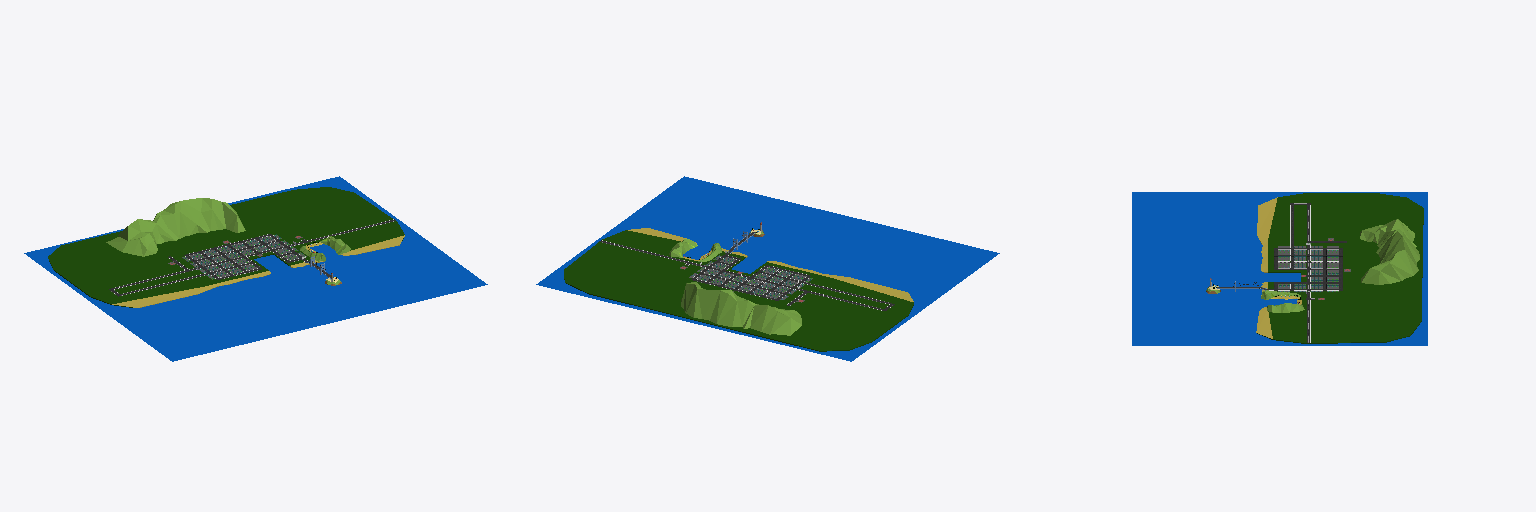
The picture shows the model from 3 angles: view 1: azimuth 30°, elevation 25°; view 2: azimuth 150°, elevation 25°; view 3: azimuth 270°, elevation 25°; orthographic projection.
Visible parts, largest first — view 1: ground_SPW_Natures_Mount_Green_02_Mesh.001, roads_Mesh.029; view 2: ground_SPW_Natures_Mount_Green_02_Mesh.001, roads_Mesh.029; view 3: ground_SPW_Natures_Mount_Green_02_Mesh.001, roads_Mesh.029.
Boxes of the visible parts, x1=… form: ground_SPW_Natures_Mount_Green_02_Mesh.001: x1=24, y1=176, x2=487, y2=361; roads_Mesh.029: x1=109, y1=219, x2=395, y2=296; ground_SPW_Natures_Mount_Green_02_Mesh.001: x1=536, y1=176, x2=999, y2=361; roads_Mesh.029: x1=599, y1=240, x2=894, y2=310; ground_SPW_Natures_Mount_Green_02_Mesh.001: x1=1132, y1=192, x2=1427, y2=345; roads_Mesh.029: x1=1267, y1=203, x2=1346, y2=342.
Bounding box in the file's own units: 180 × 15.24 × 147.
Materials: 18 (11 with a texture image).